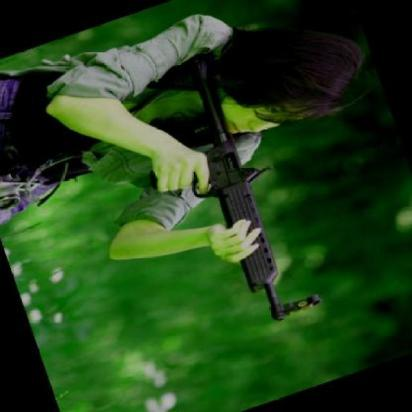Gun: (174, 49, 322, 324)
